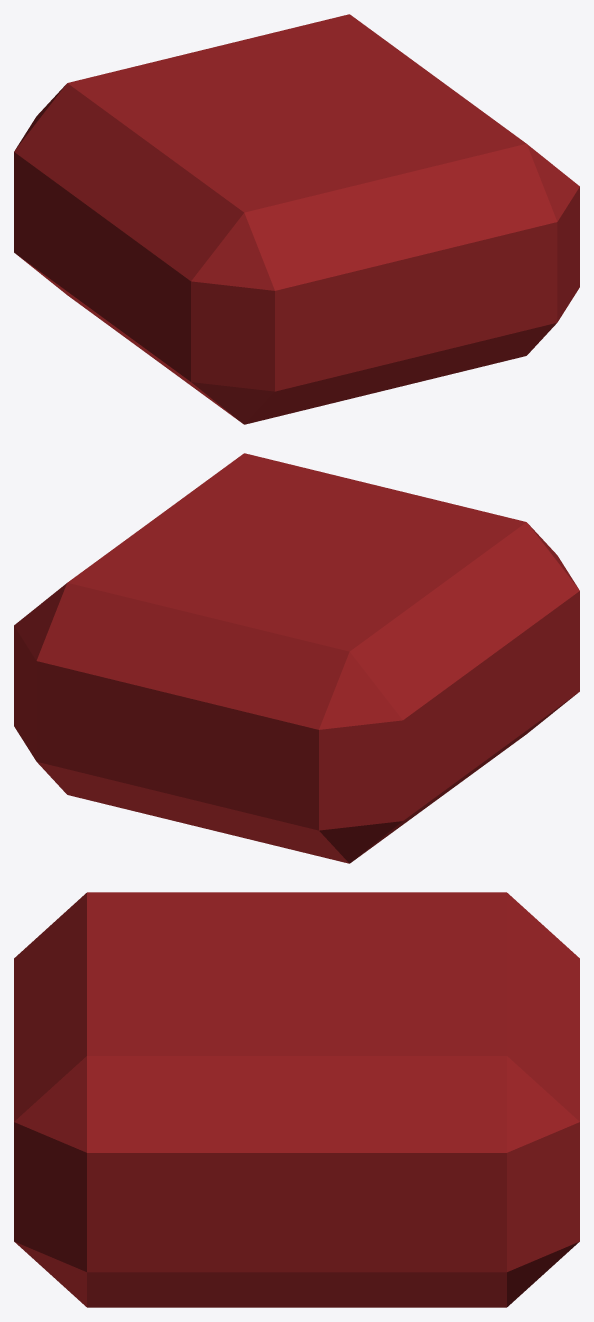
The model's file is TongueSegment.fbx.
The picture shows the model from 3 angles, top to bottom: view 1: azimuth 30°, elevation 25°; view 2: azimuth 150°, elevation 25°; view 3: azimuth 270°, elevation 25°; orthographic projection. The views are drawn at different scales.
Parts seen in each view (by area): view 1: Cube.005; view 2: Cube.005; view 3: Cube.005.
Part boxes in pixels (x1,y1,x2,y2): Cube.005: (14,14,579,424); Cube.005: (14,453,579,863); Cube.005: (14,892,579,1307).
Bounding box in the file's own units: 43.8 × 22.83 × 46.53.
